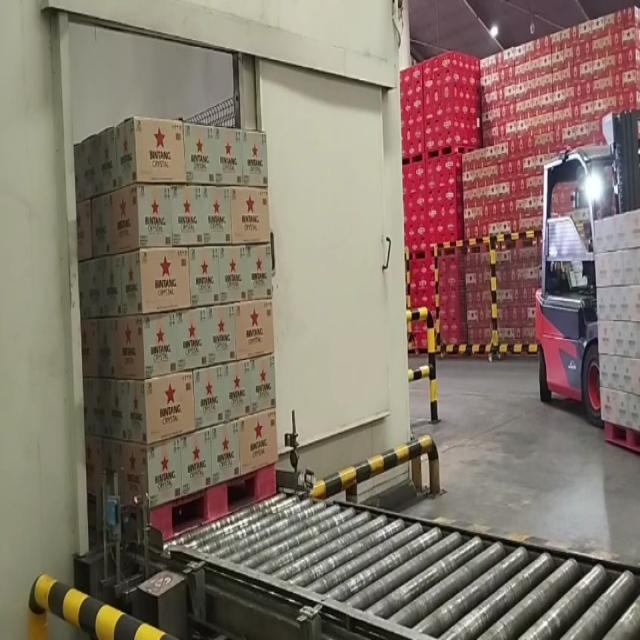pallet: (72, 112, 286, 546), (590, 203, 640, 476)
